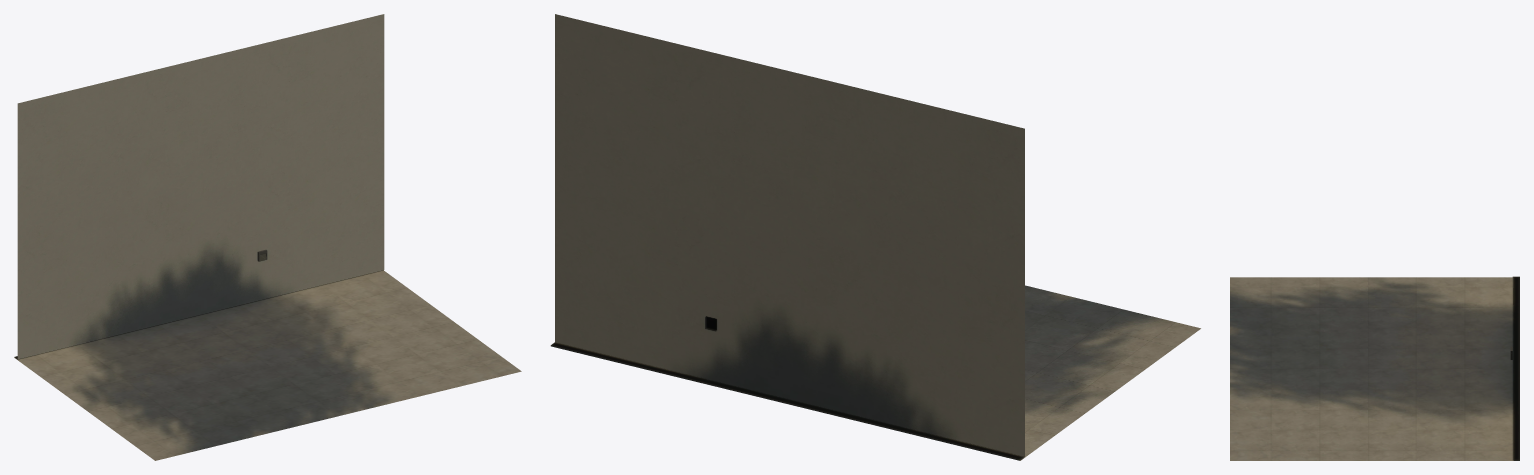
Rendered from Prova_export_6_square_giorno.glb.
The picture shows the model from 3 angles, left to right: view 1: azimuth 30°, elevation 25°; view 2: azimuth 150°, elevation 25°; view 3: azimuth 270°, elevation 25°; orthographic projection. The views are drawn at different scales.
Visible parts, largest first — view 1: Muro, Pavimento; view 2: Muro, Pavimento; view 3: Pavimento, Muro.
Boxes of the visible parts, x1,y1,x2,y2 form: Muro: (14,14,384,359); Pavimento: (14,270,521,460); Muro: (550,14,1024,459); Pavimento: (551,285,1200,460); Pavimento: (1230,277,1519,460); Muro: (1512,276,1519,460).
Bounding box in the file's own units: 5.99 × 4.01 × 4.
4 materials, 4 textured.
